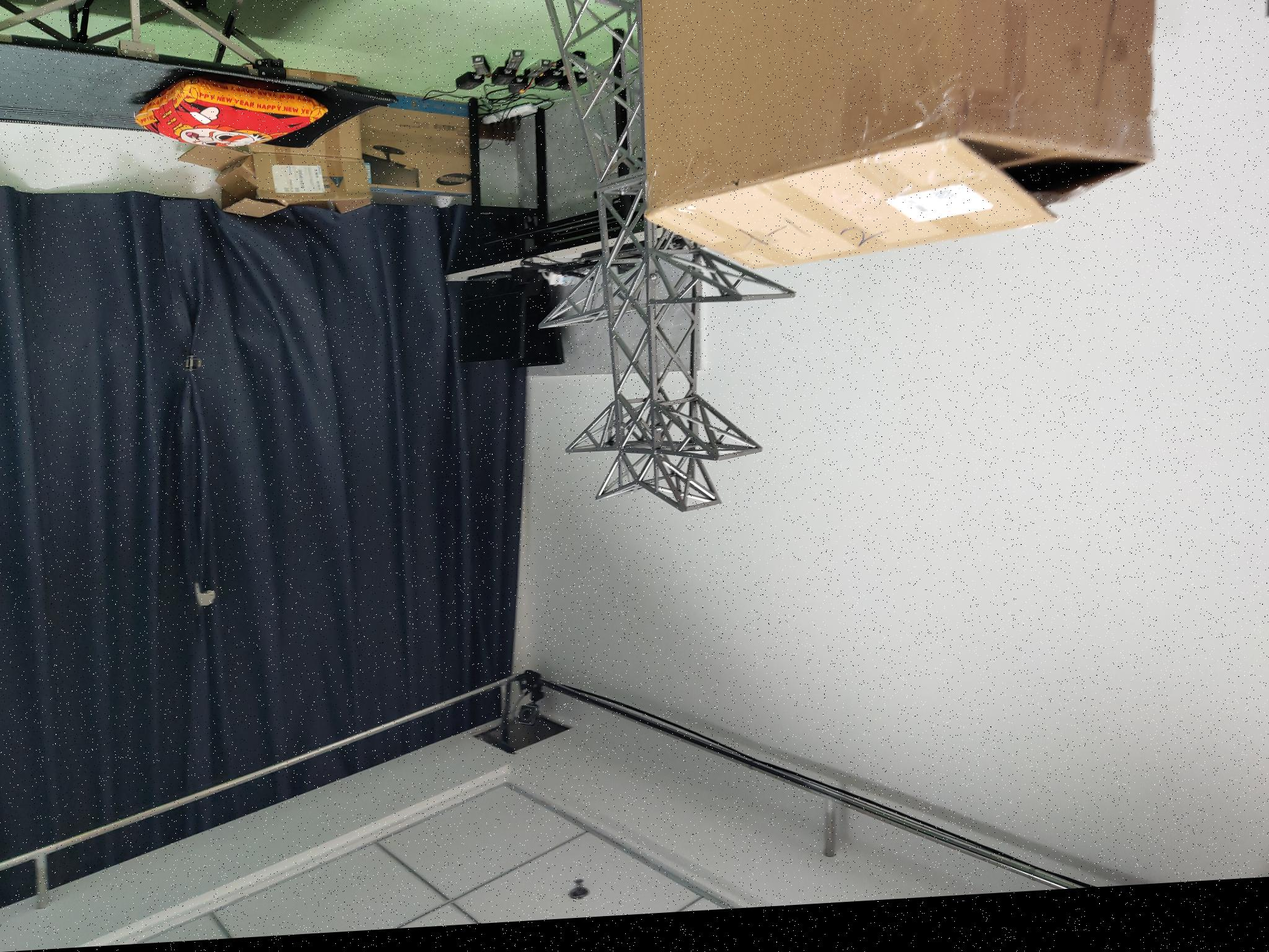tower: (527, 0, 723, 521)
